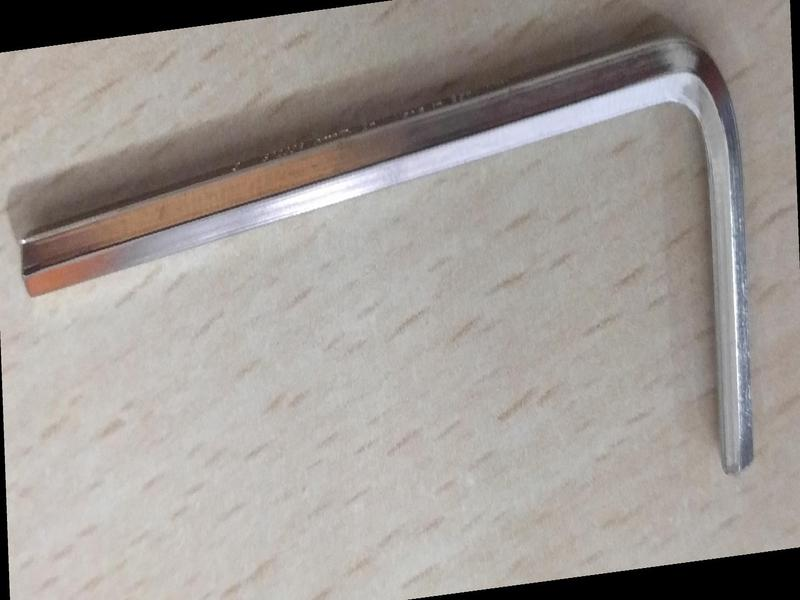turner: (17, 29, 777, 490)
